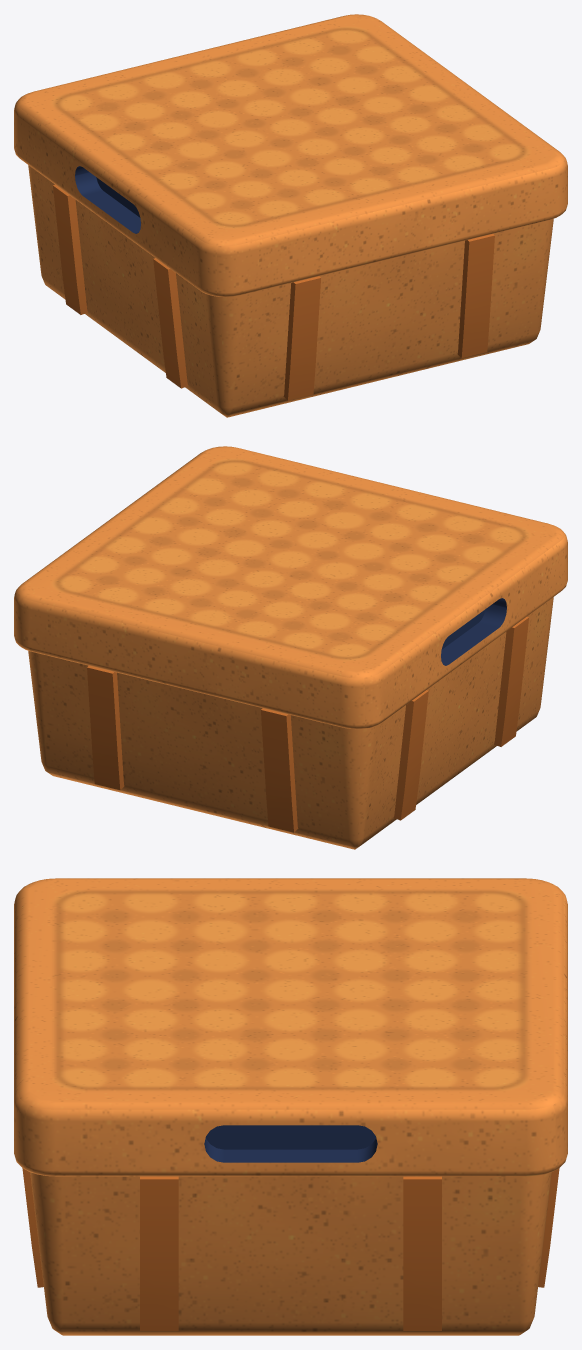
File: reception_foam_crate.glb
3 renders of one model, top to bottom at view 1: azimuth 30°, elevation 25°; view 2: azimuth 150°, elevation 25°; view 3: azimuth 270°, elevation 25°, orthographic. The views are drawn at different scales.
Parts seen in each view (by area): view 1: reception_foam_crate_LOD0; view 2: reception_foam_crate_LOD0; view 3: reception_foam_crate_LOD0.
Boxes of the visible parts, box(x1,y1,x2,y2) form: reception_foam_crate_LOD0: box(14, 14, 567, 417); reception_foam_crate_LOD0: box(14, 446, 567, 849); reception_foam_crate_LOD0: box(14, 878, 567, 1335).
Size of the model in its own units: 8 by 4 by 8.
1 material, 1 textured.
